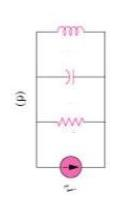resistor: (49, 110, 89, 134)
